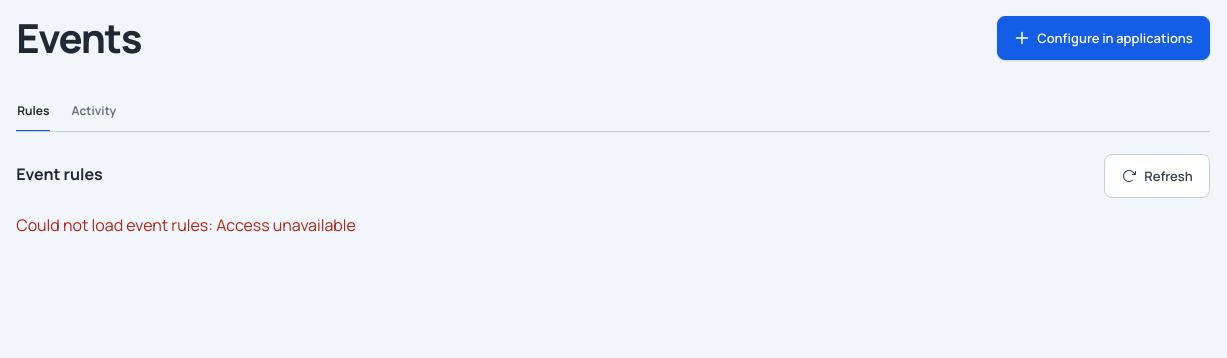
Test: shows load failures without claiming zero rules or events, then retries
Check: the message reads "Could not load event rules: Access unavailable", box [16,214,356,236]
Check: the text "0" is not shown
Click the button "Refresh" at (1157, 176), box [1104,154,1210,198]
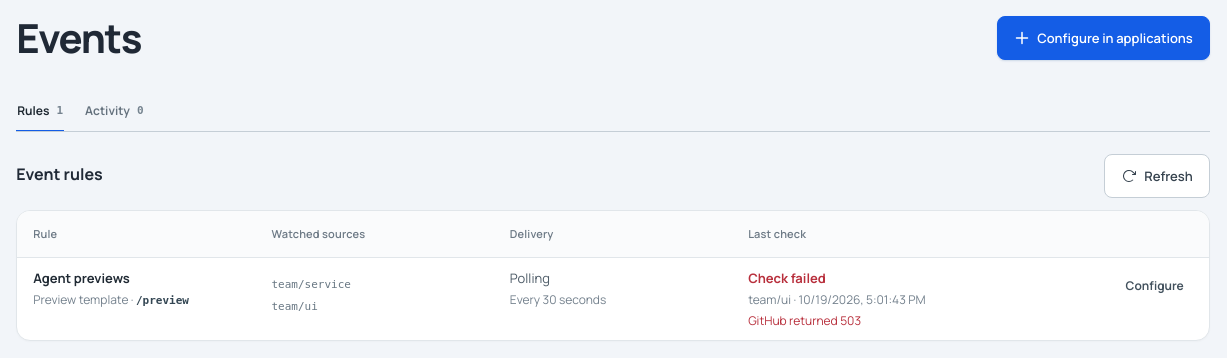
Check: the text "Agent previews" is shown, box [33,268,130,286]
